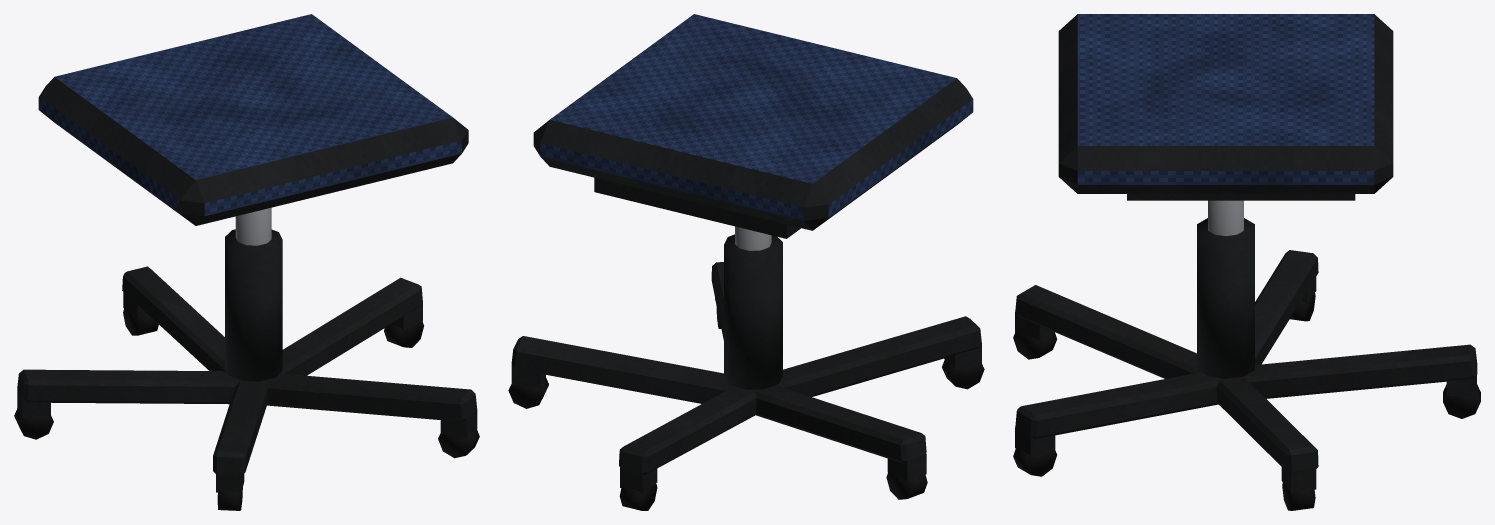
The model's file is Lab_Stool.fbx.
3 views of the same model, side by side, from view 1: azimuth 30°, elevation 25°; view 2: azimuth 150°, elevation 25°; view 3: azimuth 270°, elevation 25° (orthographic). The views are drawn at different scales.
Parts seen in each view (by area): view 1: Lab_Stool; view 2: Lab_Stool; view 3: Lab_Stool.
Part boxes in pixels (<box>): Lab_Stool: <box>14,14,479,510</box>; Lab_Stool: <box>508,14,984,510</box>; Lab_Stool: <box>1013,14,1480,510</box>.
Bounding box in the file's own units: 0.6465 × 0.485 × 0.6148.
